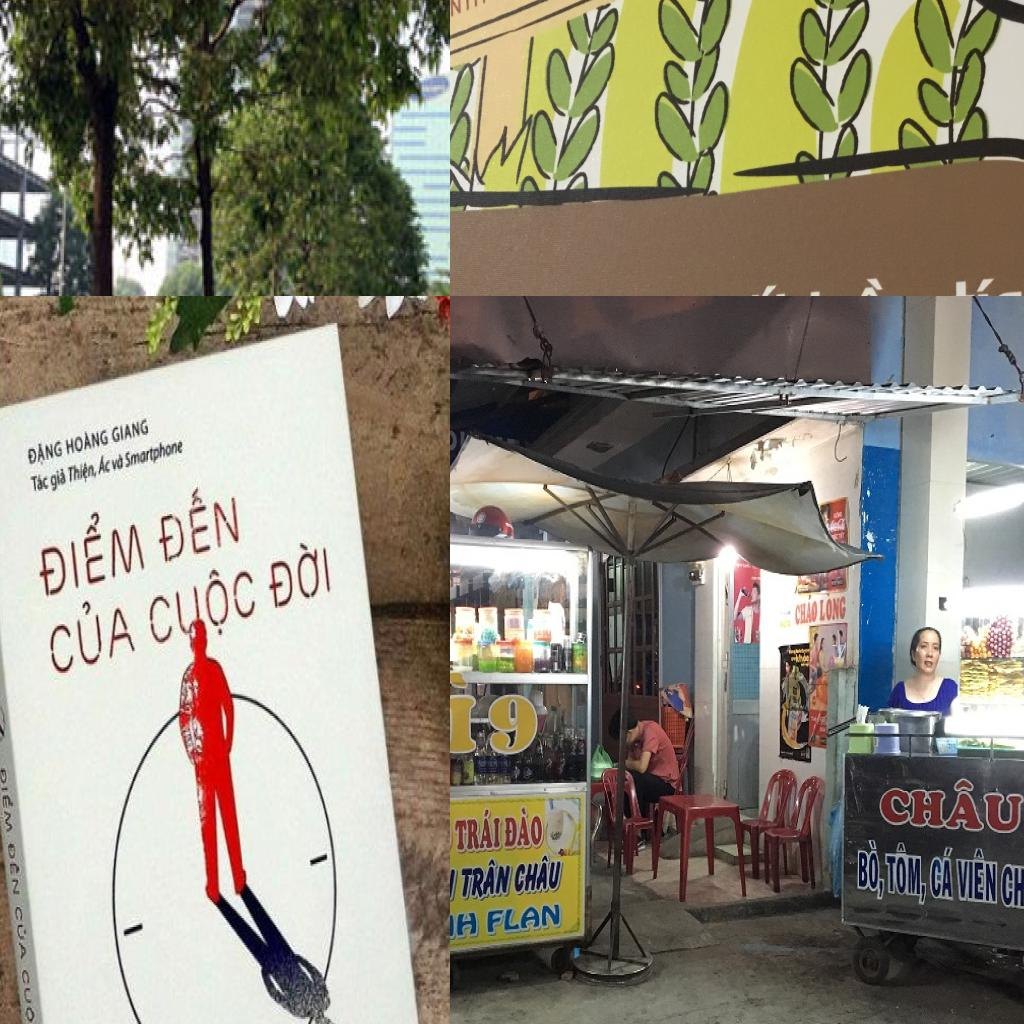text: (33, 502, 147, 604), (147, 556, 260, 656), (880, 774, 1024, 834), (48, 590, 137, 678), (156, 474, 241, 566), (266, 534, 332, 611), (485, 692, 539, 756), (803, 273, 938, 296), (885, 841, 932, 906), (484, 903, 562, 936), (956, 848, 999, 905), (512, 853, 566, 898), (450, 670, 478, 755), (462, 857, 514, 901), (455, 807, 502, 855), (125, 436, 184, 472), (501, 804, 546, 850), (855, 840, 887, 902), (949, 271, 1024, 296), (929, 844, 957, 905), (450, 0, 502, 32), (705, 279, 795, 296), (1000, 851, 1024, 914), (66, 426, 111, 458), (26, 436, 65, 471), (12, 900, 30, 967), (111, 416, 150, 446), (0, 765, 16, 837), (21, 966, 40, 1024), (450, 906, 479, 944), (5, 840, 24, 896), (68, 458, 98, 489), (819, 591, 847, 623), (794, 591, 818, 627), (50, 466, 69, 494), (29, 471, 50, 494), (99, 453, 112, 478), (110, 453, 124, 474)
